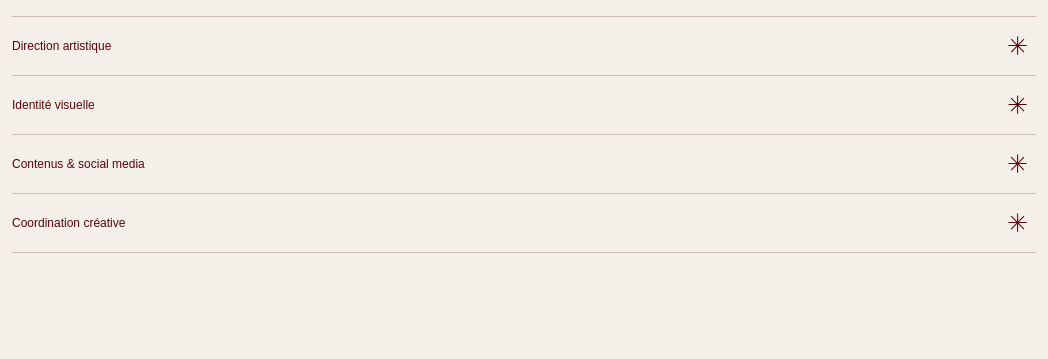
Test: Expertises › conserve une seule expertise ouverte
What coordinates should you click on to do the following:
click the button "Direction artistique"
I would click on:
 (62, 46)
Its box is top-left (12, 17), bottom-right (1036, 75).
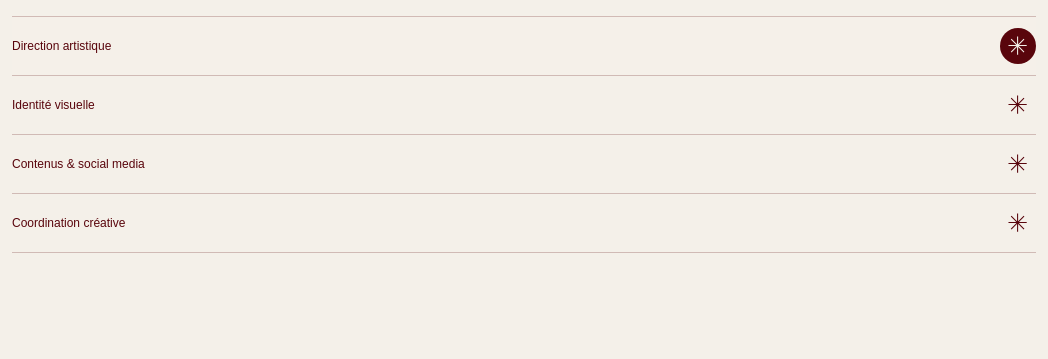
What coordinates should you click on to do the following:
click the button "Identité visuelle"
I would click on:
 (53, 105)
Its box is top-left (12, 76), bottom-right (1036, 134).
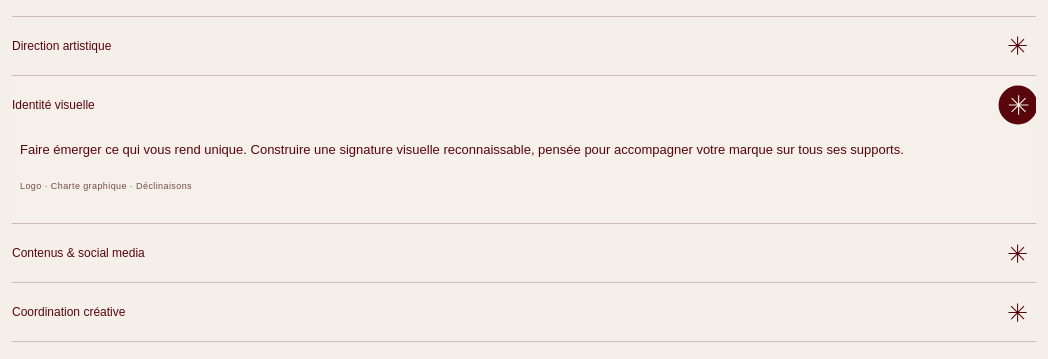
Expected: the number of buttons is 4, top-left (12, 17), bottom-right (1036, 75); top-left (12, 76), bottom-right (1036, 134); top-left (12, 224), bottom-right (1036, 282); top-left (12, 283), bottom-right (1036, 341)
Expected: the button "Direction artistique" is collapsed, top-left (12, 17), bottom-right (1036, 75)
Expected: the button "Identité visuelle" is expanded, top-left (12, 76), bottom-right (1036, 134)
